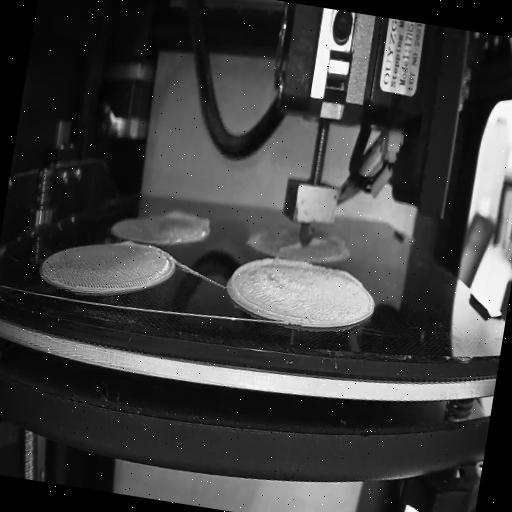over_extrusion: (224, 249, 318, 330), (165, 206, 214, 232), (329, 266, 365, 289), (112, 236, 138, 254), (278, 238, 302, 254), (310, 232, 329, 248)
